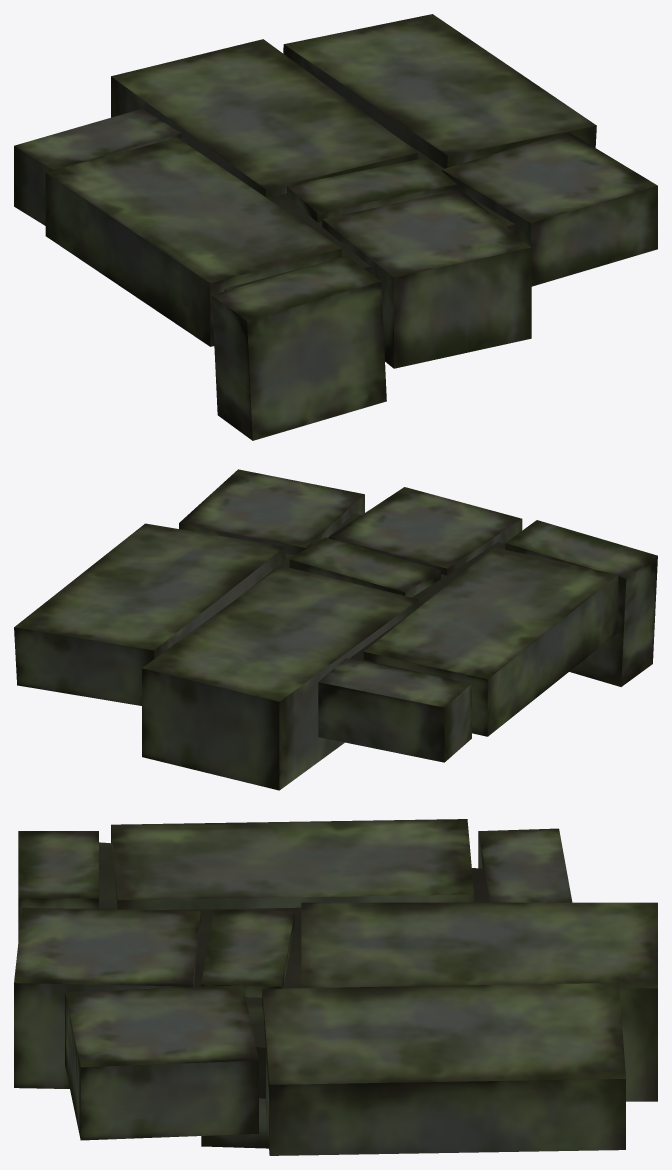
Rendered from ruin-platform-03.fbx.
3 views of the same model, one above another, from view 1: azimuth 30°, elevation 25°; view 2: azimuth 150°, elevation 25°; view 3: azimuth 270°, elevation 25° (orthographic). The views are drawn at different scales.
Visible parts, largest first — view 1: platform03; view 2: platform03; view 3: platform03.
Part boxes in pixels (<box>): platform03: <box>14,14,657,440</box>; platform03: <box>14,469,657,790</box>; platform03: <box>14,819,657,1155</box>.
Bounding box in the file's own units: 224 × 67.23 × 233.
